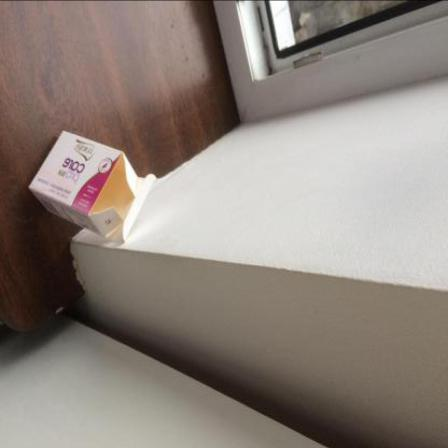Carton: (30, 132, 158, 243)
